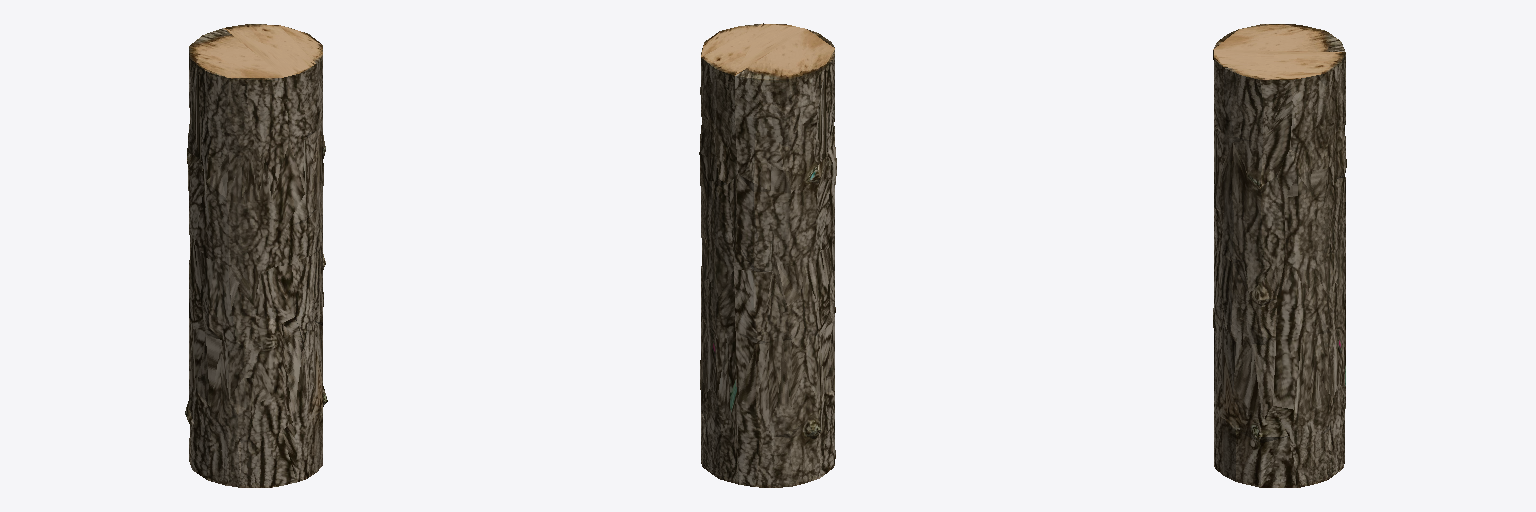
The picture shows the model from 3 angles: view 1: azimuth 30°, elevation 25°; view 2: azimuth 150°, elevation 25°; view 3: azimuth 270°, elevation 25°; orthographic projection.
Visible parts, largest first — view 1: tripo_node_74a9ebb9-7b9d-458f-94b1-7d17bc1240e5; view 2: tripo_node_74a9ebb9-7b9d-458f-94b1-7d17bc1240e5; view 3: tripo_node_74a9ebb9-7b9d-458f-94b1-7d17bc1240e5.
Part boxes in pixels (bbox=[...]): tripo_node_74a9ebb9-7b9d-458f-94b1-7d17bc1240e5: bbox=[185, 24, 327, 487]; tripo_node_74a9ebb9-7b9d-458f-94b1-7d17bc1240e5: bbox=[699, 23, 836, 487]; tripo_node_74a9ebb9-7b9d-458f-94b1-7d17bc1240e5: bbox=[1213, 24, 1346, 487].
Size of the model in its own units: 0.3119 by 0.9993 by 0.2976.
1 materials, 1 textured.